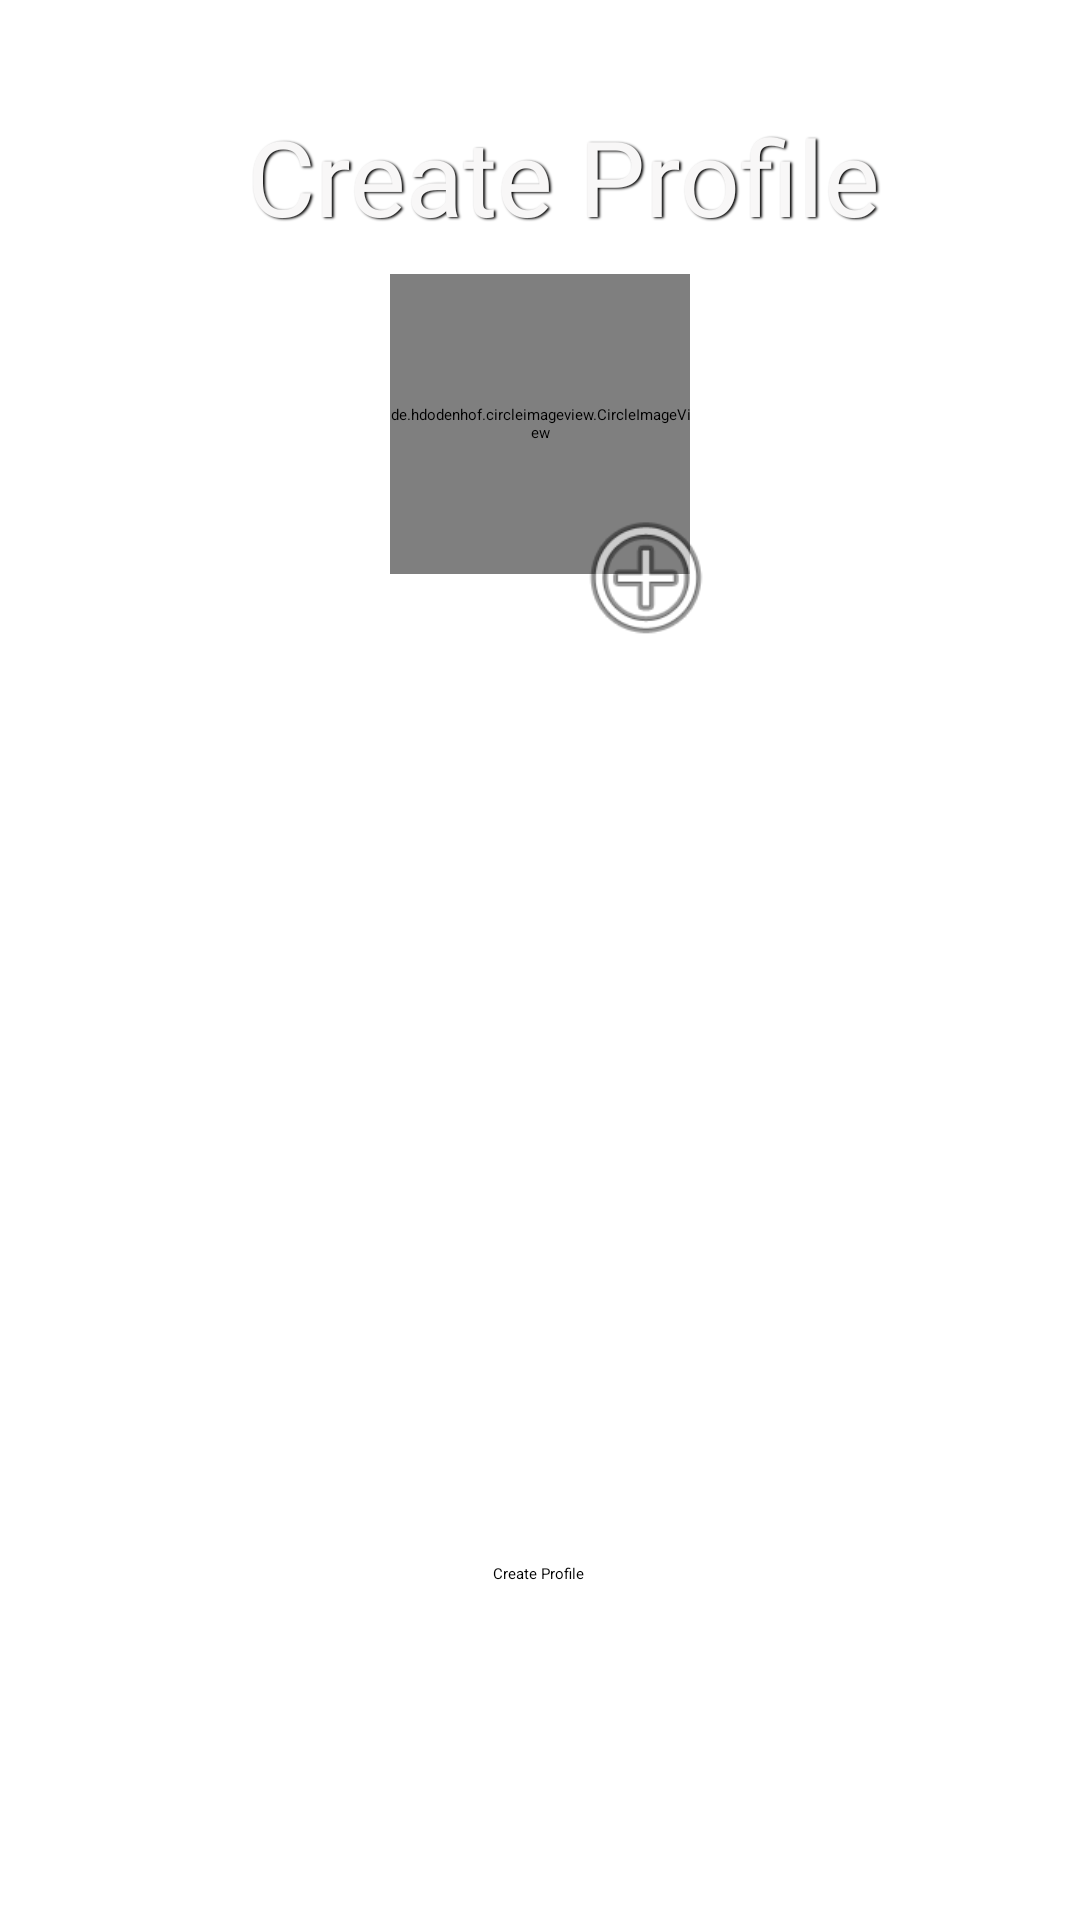

Locate icon controls on the screen. Image size 1080px x 1920px, boxes as rect(x1, y1, x2, y2).
add: rect(562, 502, 702, 634)
